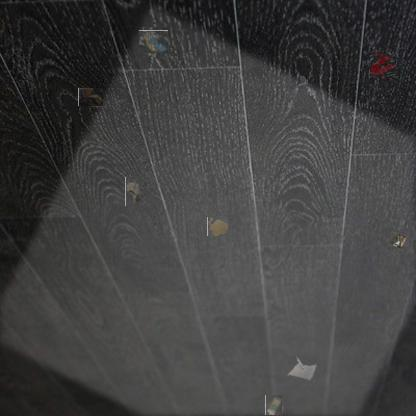dirty: (287, 356, 317, 382), (140, 29, 167, 55), (125, 176, 146, 206), (78, 88, 103, 106), (388, 230, 408, 250), (264, 396, 284, 416)
liquid: (371, 53, 395, 78), (207, 216, 228, 236)
